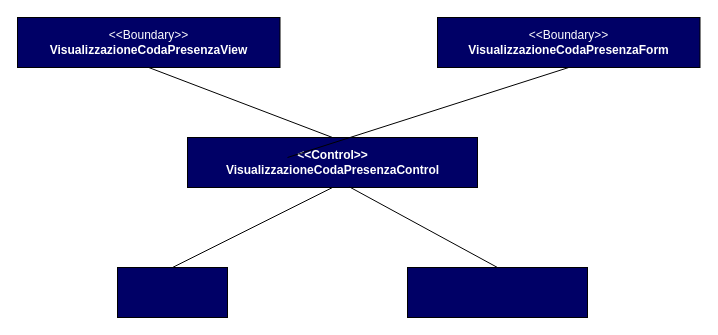
The diagram is 718 pixels wide and 335 high, and some of its shapes have lost their labels. Each missing label, with the centre of its shape:
<<Entity>> CodaPresenzaRepository: the point at 497,292
<<Entity>> Utente Autenticato: the point at 172,292
